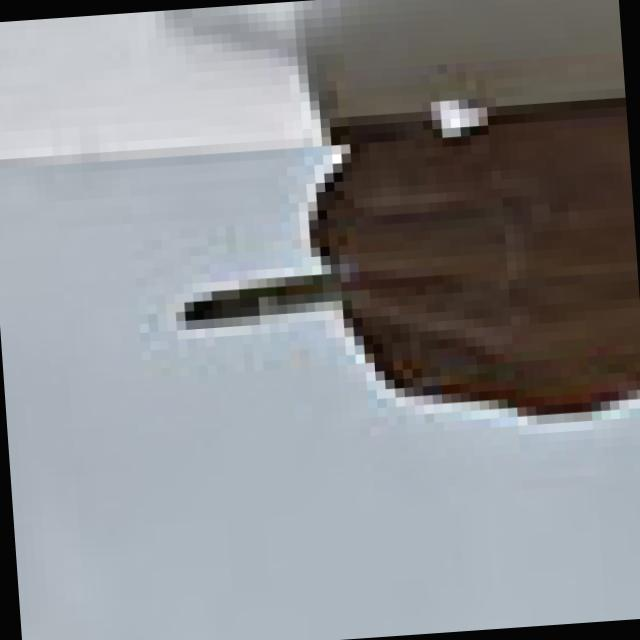cigarette: (163, 228, 401, 352)
